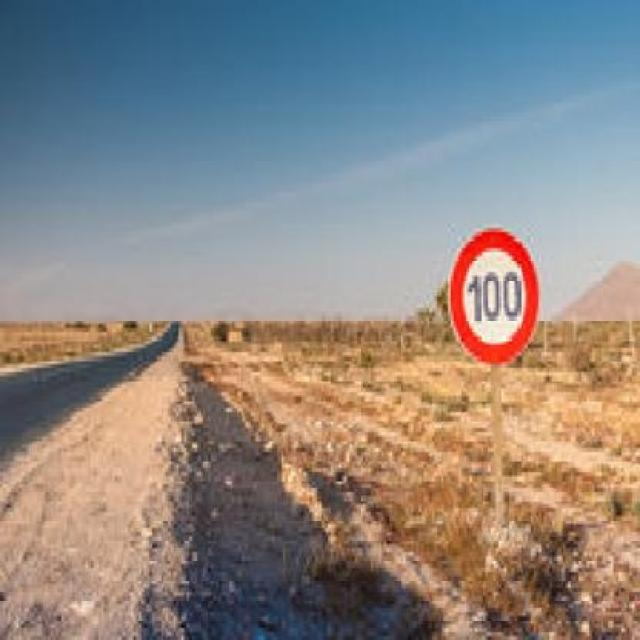forb_speed_over_100: (448, 228, 539, 372)
